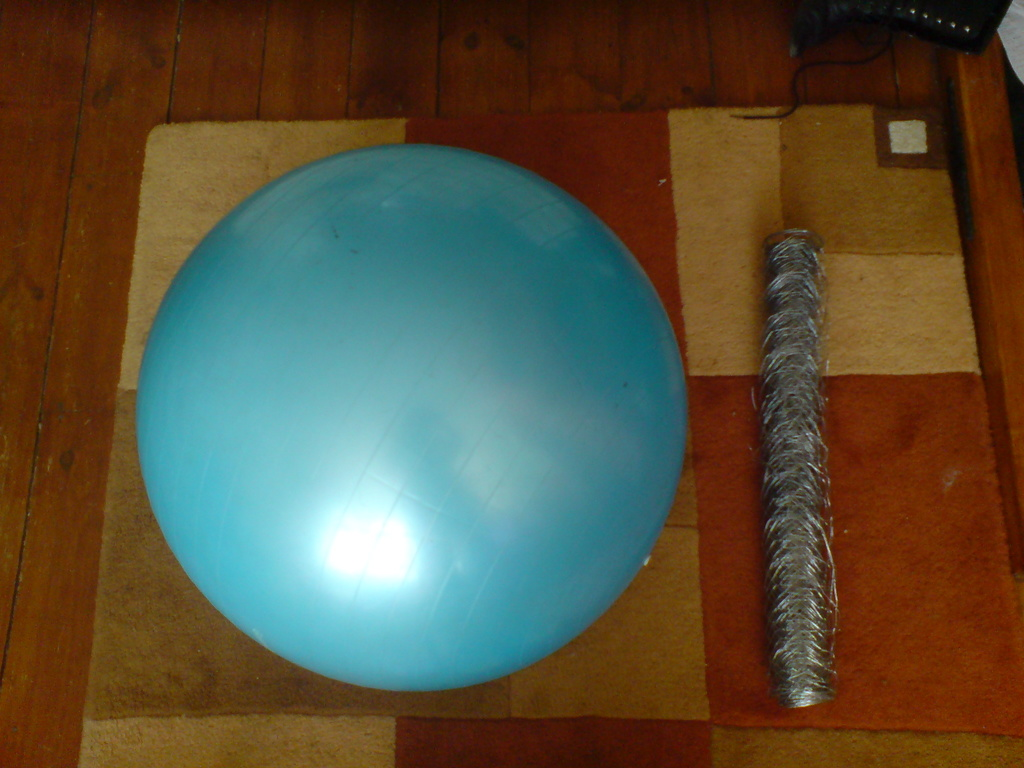Ball: (139, 142, 689, 692)
